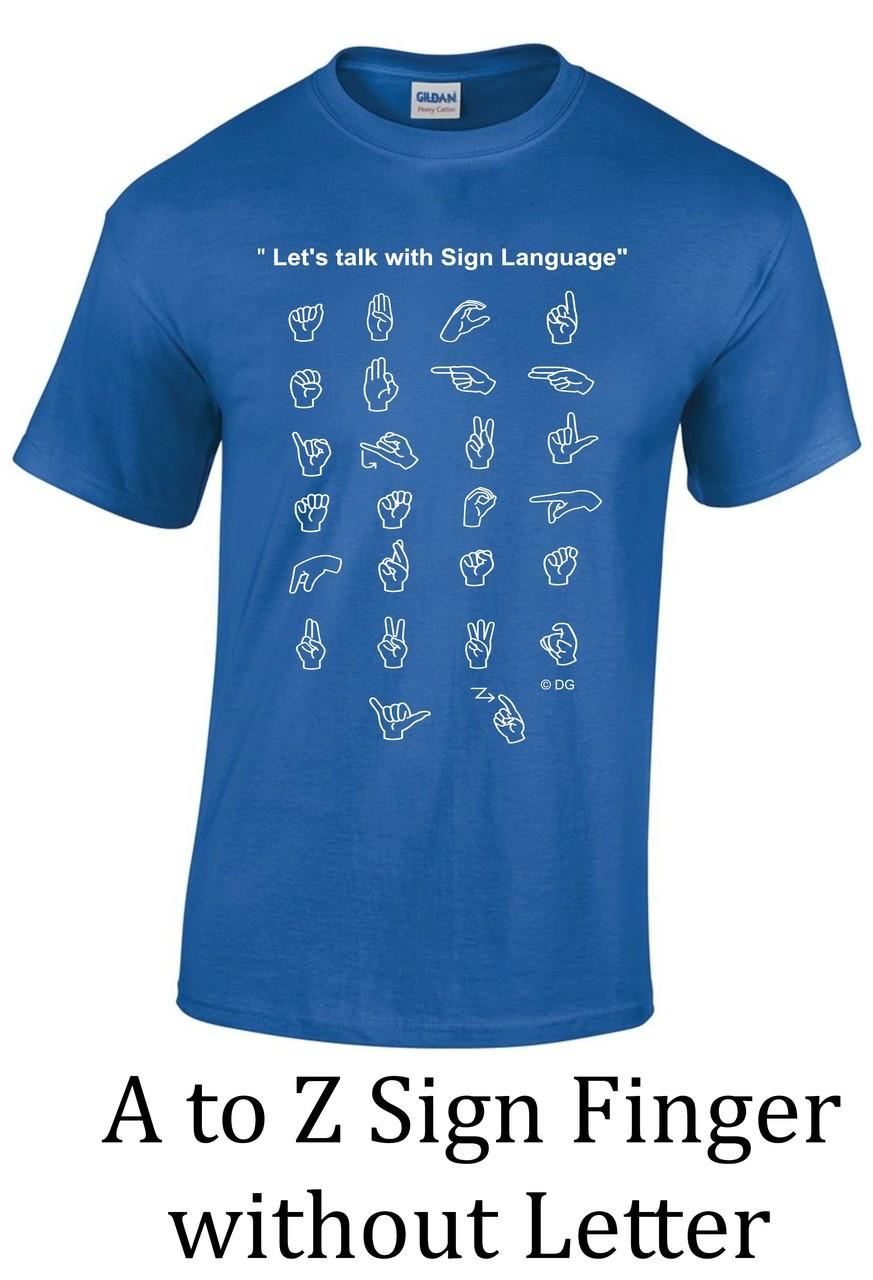No: (430, 288, 505, 358)
